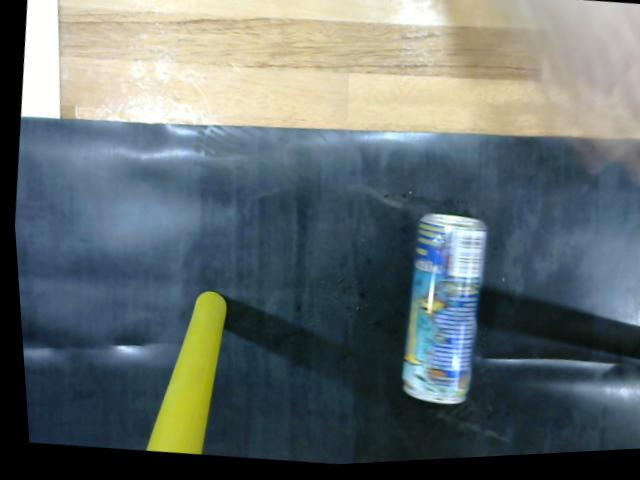can: (389, 203, 490, 420)
